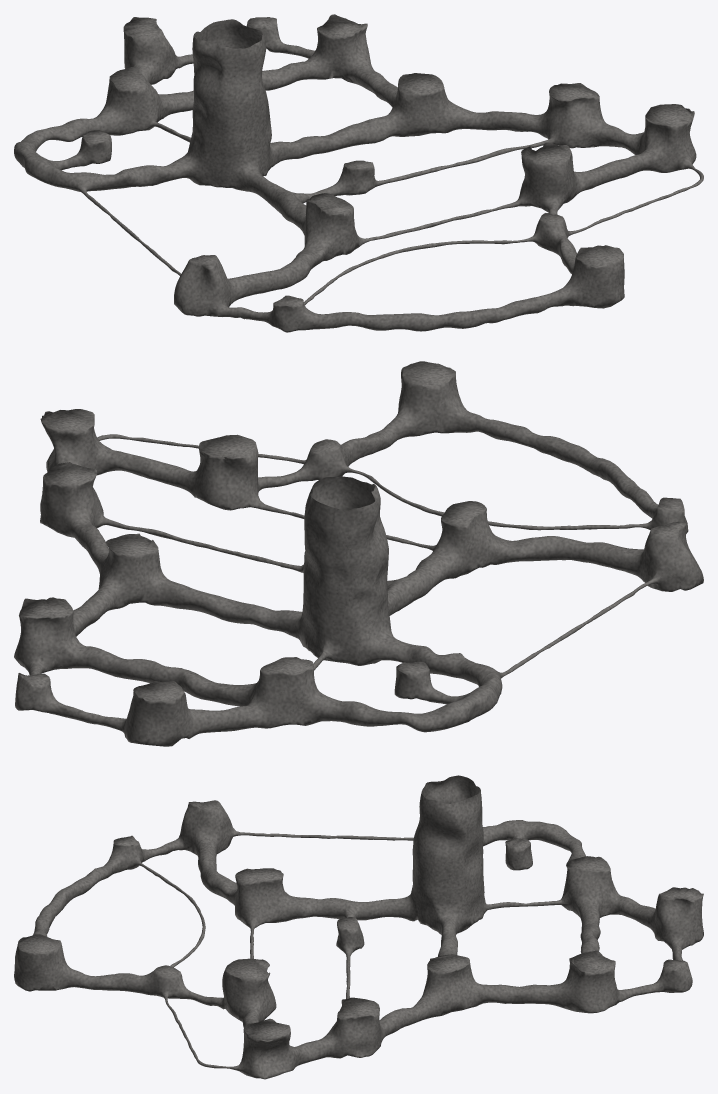
The model's file is map_with_textures.fbx.
3 renders of one model, top to bottom at view 1: azimuth 30°, elevation 25°; view 2: azimuth 150°, elevation 25°; view 3: azimuth 270°, elevation 25°, orthographic. The views are drawn at different scales.
Visible parts, largest first — view 1: Mapa; view 2: Mapa; view 3: Mapa.
Boxes of the visible parts, x1,y1,x2,y2 form: Mapa: (14,14,703,332); Mapa: (14,361,703,746); Mapa: (14,775,703,1079).
Size of the model in its own units: 42846 by 10576 by 50385.
